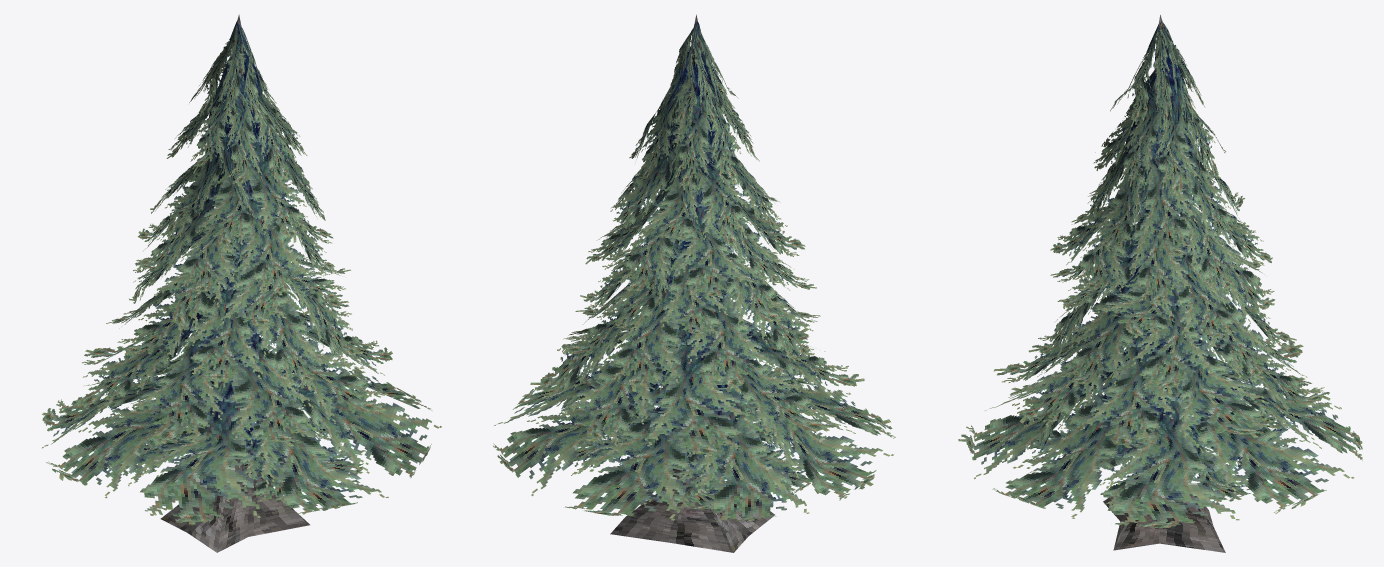
The model's file is firTree.glb.
The picture shows the model from 3 angles, left to right: view 1: azimuth 30°, elevation 25°; view 2: azimuth 150°, elevation 25°; view 3: azimuth 270°, elevation 25°; orthographic projection.
Visible parts, largest first — view 1: FirTree; view 2: FirTree; view 3: FirTree.
Part boxes in pixels (left/top/right/bottom): FirTree: left=42, top=14, right=441, bottom=552; FirTree: left=493, top=14, right=895, bottom=552; FirTree: left=958, top=15, right=1362, bottom=552.
Bounding box in the file's own units: 4.46 × 6.03 × 4.49.
1 material, 1 textured.
